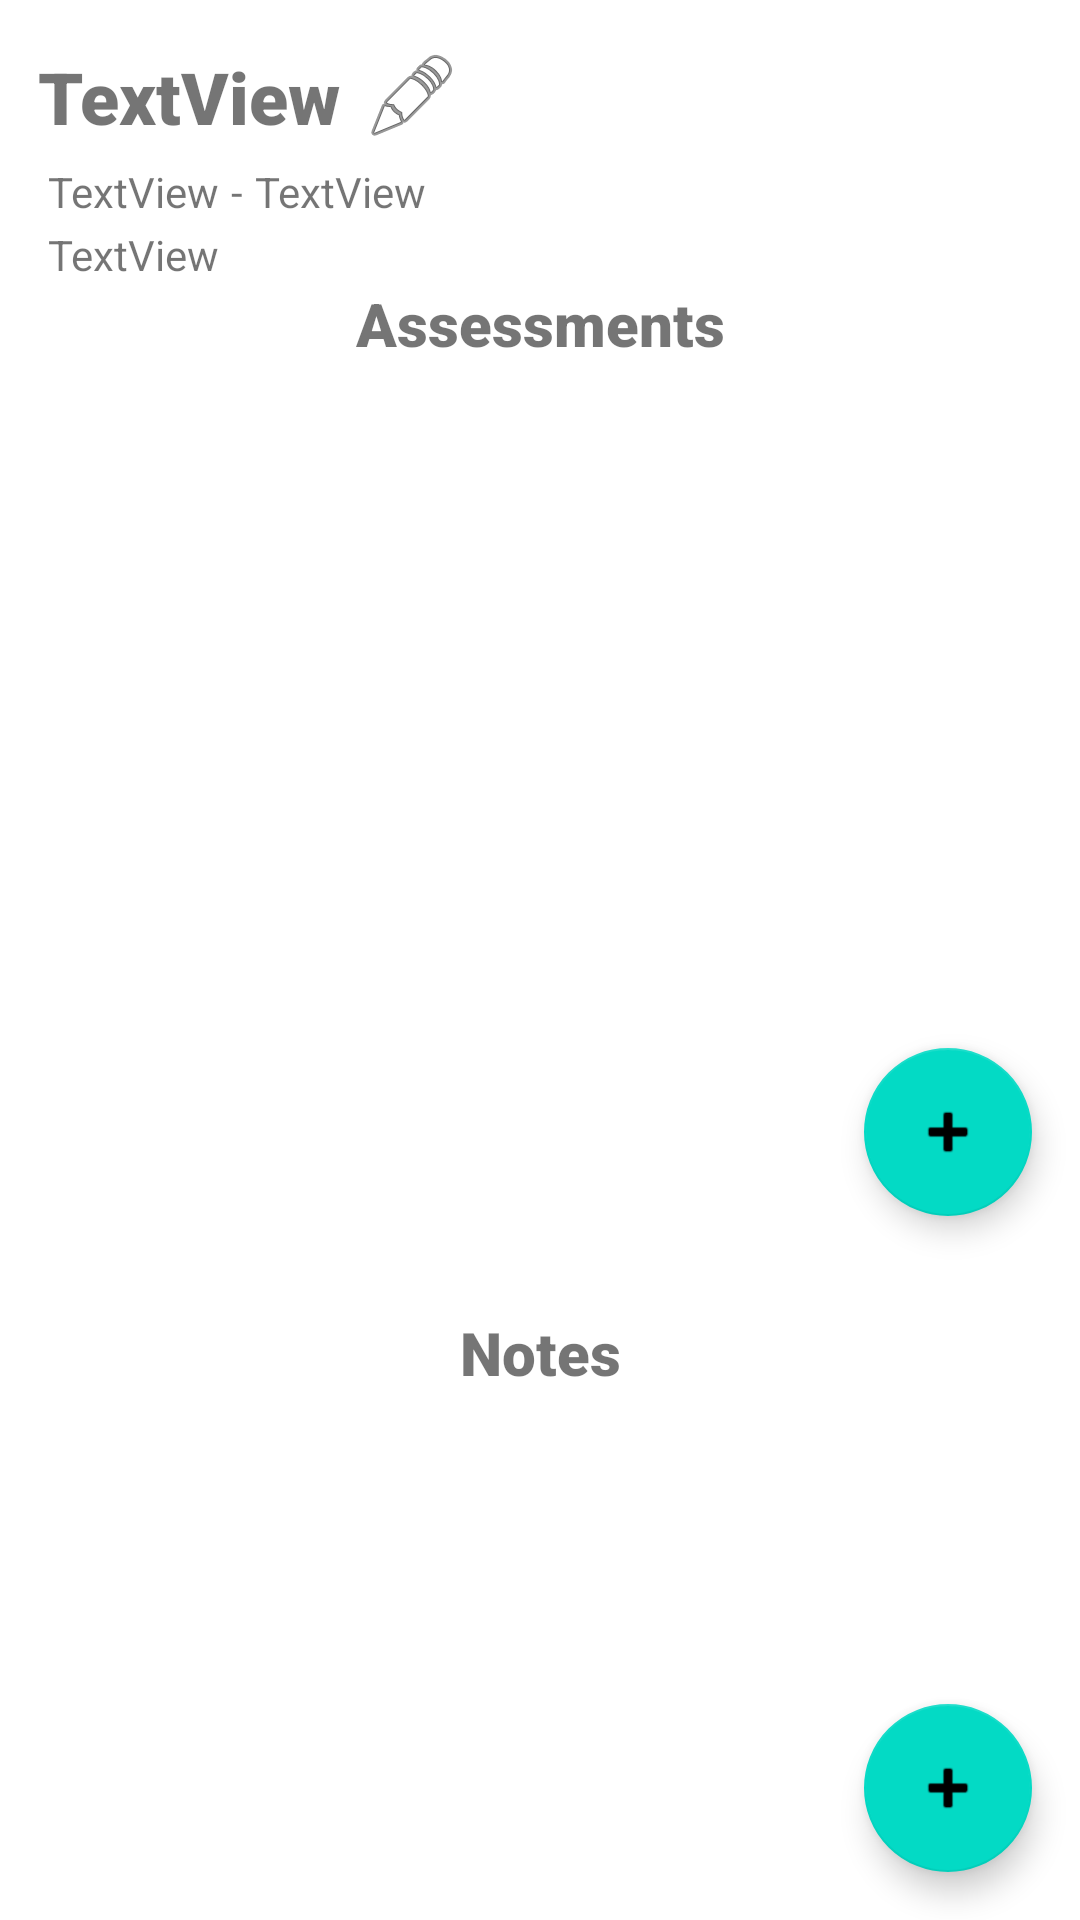

Where to tap for icons on this 1080*1920 app screen, as (x,y):
add: (948,1132), (948,1788)
edit: (411,95)
